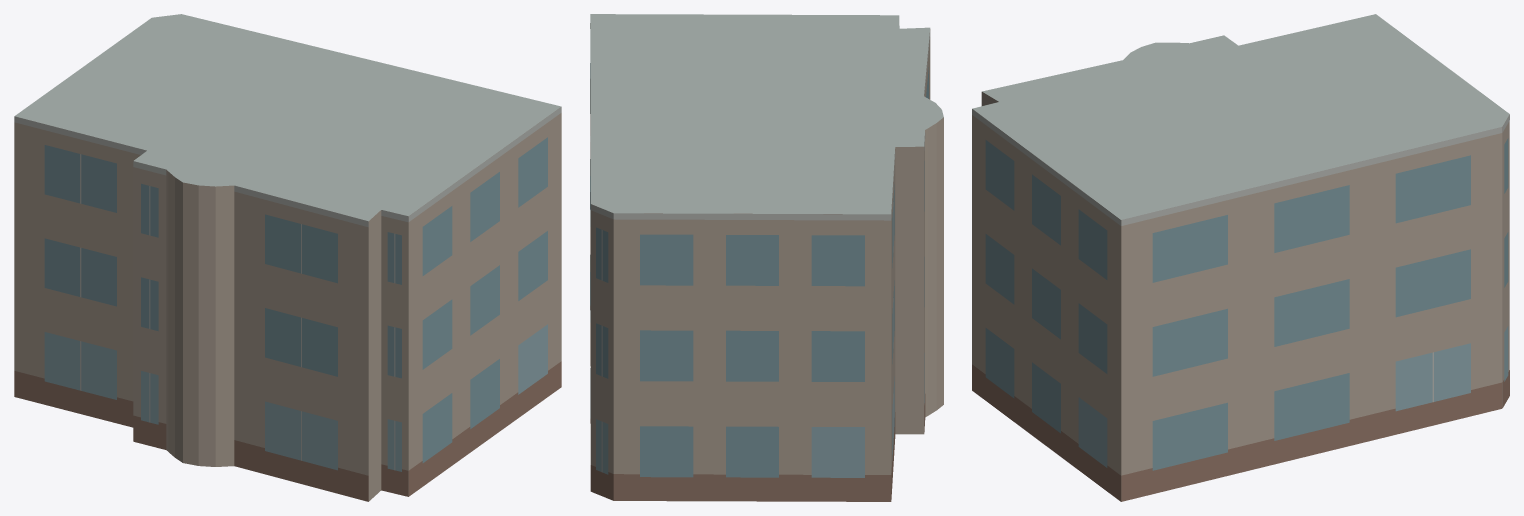
File: survey-upis-32841547.glb
3 views of the same model, side by side, from view 1: azimuth 30°, elevation 25°; view 2: azimuth 150°, elevation 25°; view 3: azimuth 270°, elevation 25° (orthographic). The views are drawn at different scales.
Parts seen in each view (by area): view 1: survey-upis-32841547.tmp; view 2: survey-upis-32841547.tmp; view 3: survey-upis-32841547.tmp.
Boxes of the visible parts, <box> form: survey-upis-32841547.tmp: <box>14,14,561,501</box>; survey-upis-32841547.tmp: <box>590,14,943,501</box>; survey-upis-32841547.tmp: <box>972,14,1509,501</box>.
Bounding box in the file's own units: 17.73 × 11.3 × 19.55.
